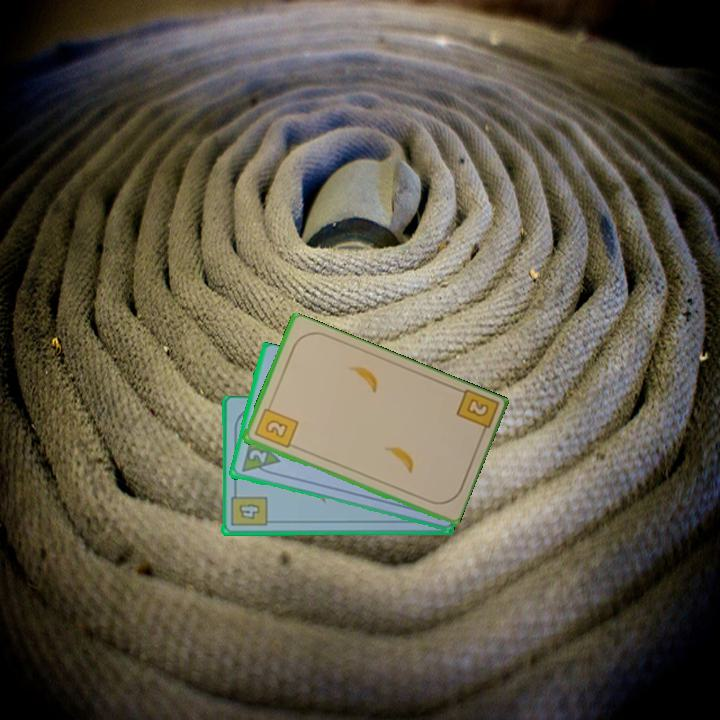2b: (452, 387, 499, 441), (251, 400, 300, 451)
2p: (245, 446, 270, 466)
4b: (227, 486, 269, 529)
